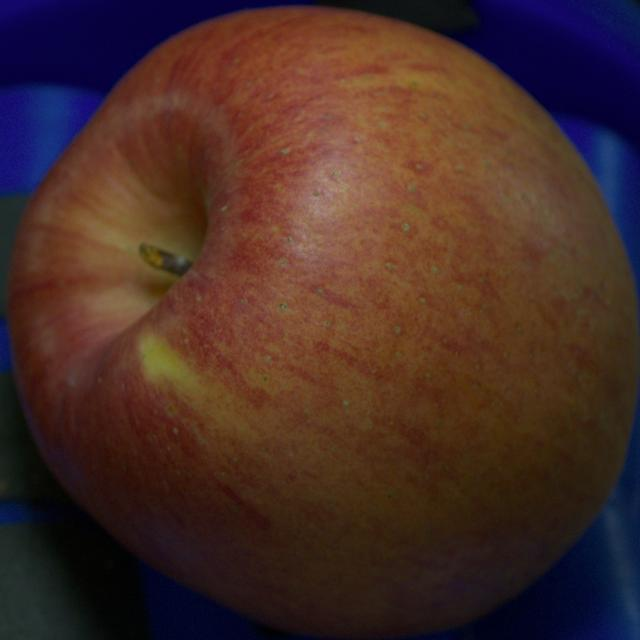apple: (7, 8, 639, 638)
